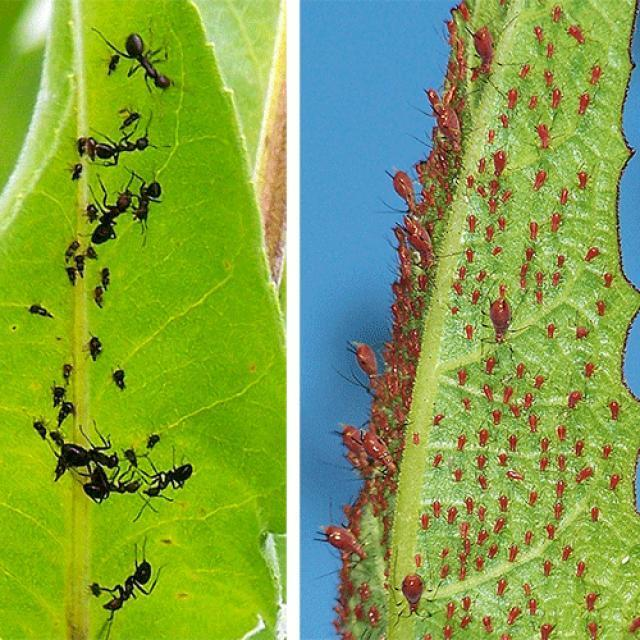Aphids: (327, 326, 389, 394), (479, 283, 524, 349), (333, 419, 369, 460)
